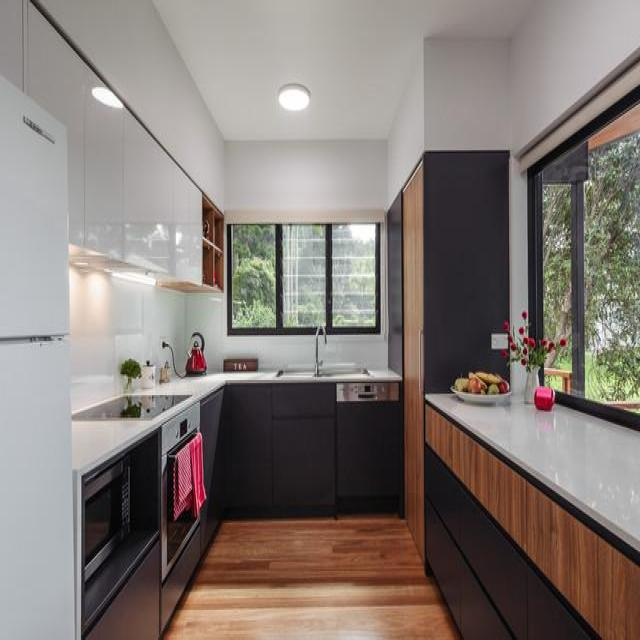dishwasher: (336, 376, 400, 512)
